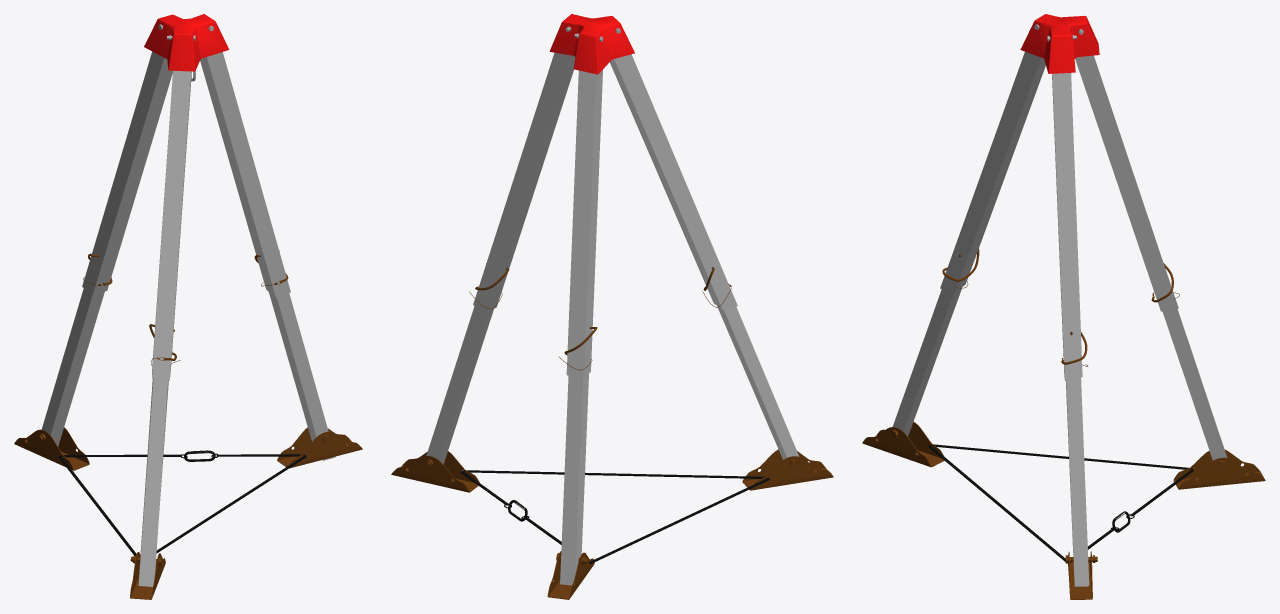
The model's file is SM_Tripod.FBX.
3 renders of one model, left to right at view 1: azimuth 30°, elevation 25°; view 2: azimuth 150°, elevation 25°; view 3: azimuth 270°, elevation 25°, orthographic. The views are drawn at different scales.
Visible parts, largest first — view 1: SM_Tripod; view 2: SM_Tripod; view 3: SM_Tripod.
Part boxes in pixels (x1,y1,x2,y2): SM_Tripod: (14,14,362,599); SM_Tripod: (391,14,833,599); SM_Tripod: (862,14,1265,599).
Size of the model in its own units: 964 by 1344 by 1003.
